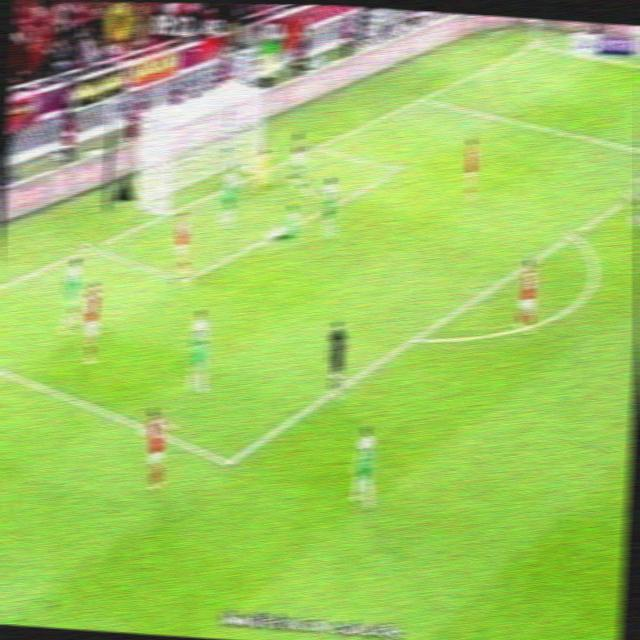bigarea_bottom_inner: (211, 442, 243, 479)
bigarea_top_outter: (411, 87, 433, 108)
bottom_arc_area_intersection: (401, 323, 429, 353)
corner: (523, 36, 546, 53)
smallarea_bottom_inner: (169, 262, 196, 295)
smallarea_bottom_outter: (78, 233, 104, 259)
smallarea_top_inner: (386, 159, 410, 184)
smallarea_top_outter: (305, 134, 328, 158)
top_arc_area_intersection: (563, 222, 583, 244), (622, 190, 638, 207)
